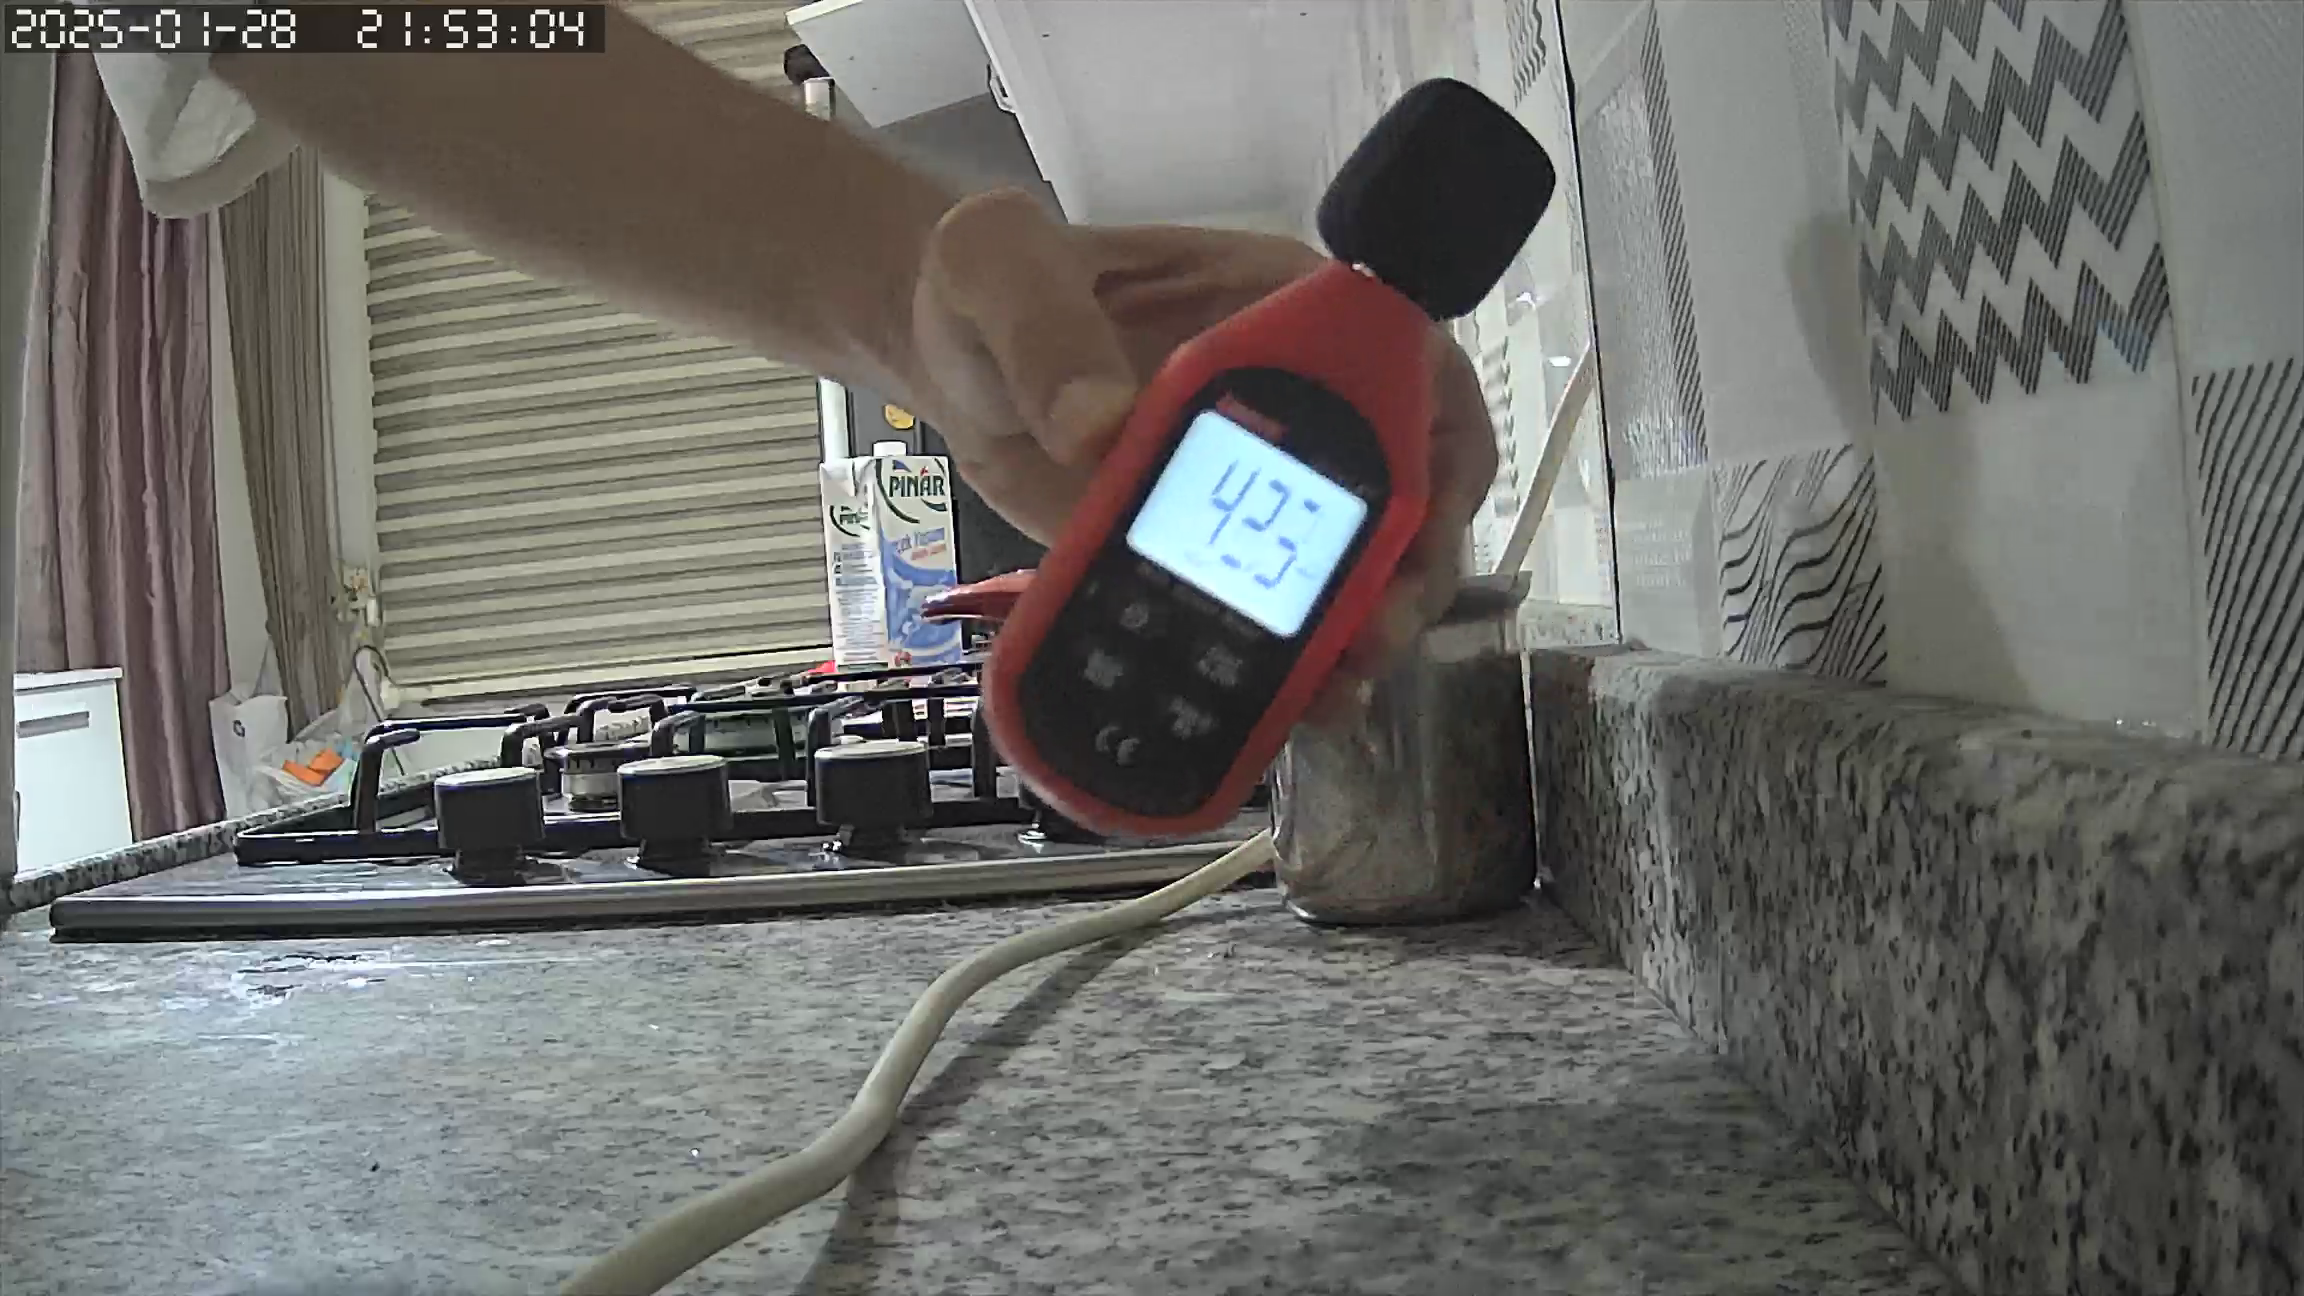screen: (1127, 411, 1367, 642)
